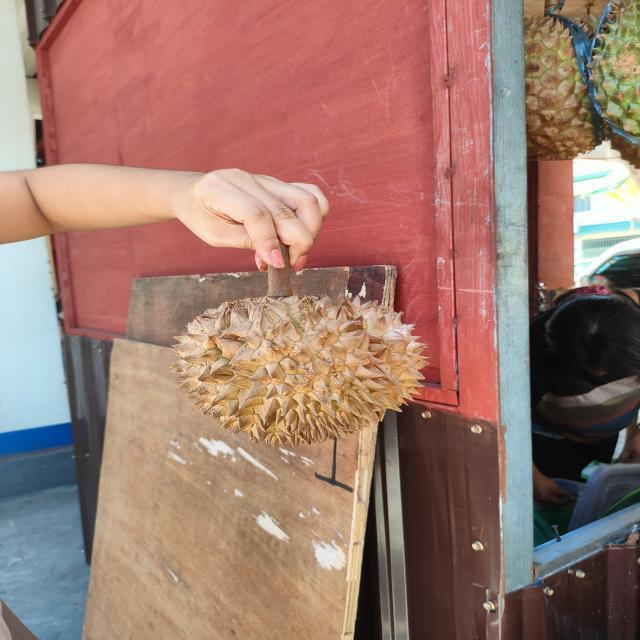mature: (170, 293, 429, 449)
